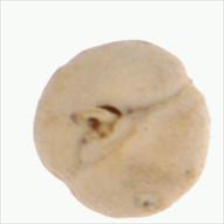L3: (71, 101, 146, 161)
L4: (33, 40, 210, 219)
